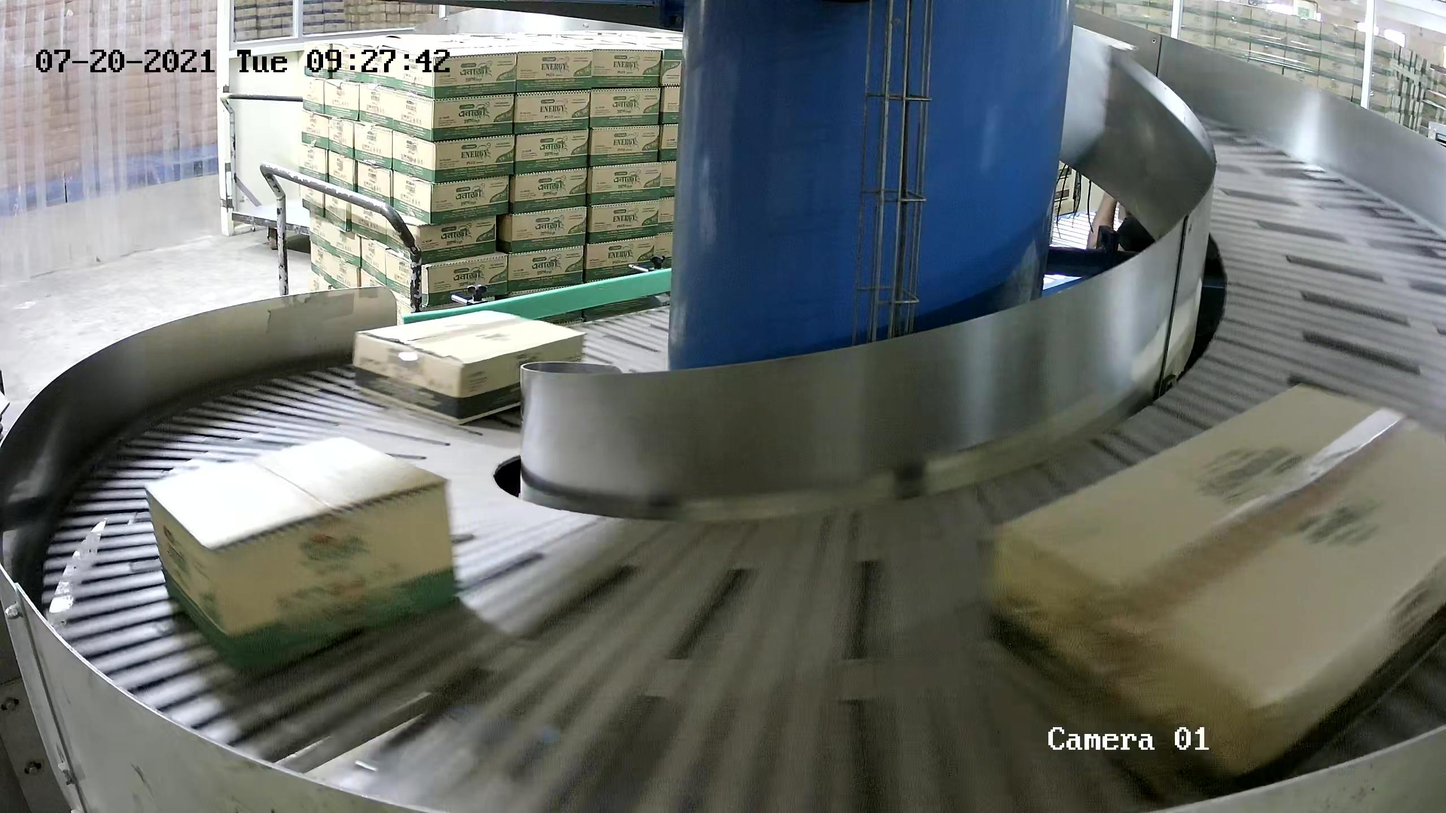Box: (980, 380, 1446, 813), (142, 433, 459, 671), (350, 307, 586, 426)
